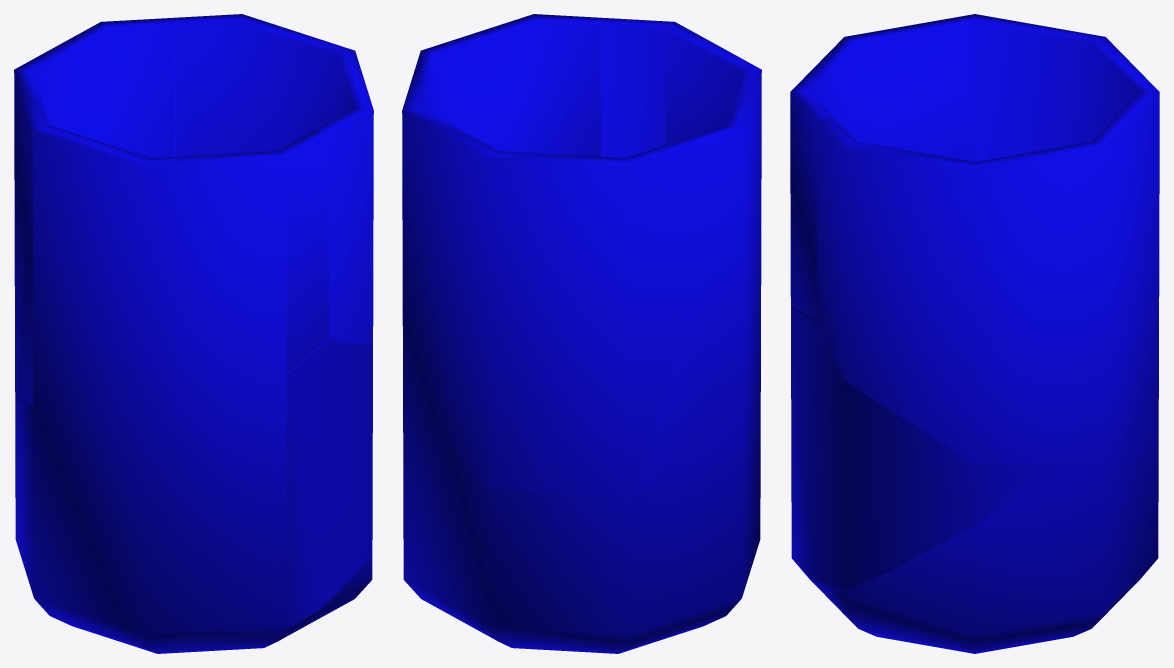
File: Lab_Beaker.fbx
The picture shows the model from 3 angles, left to right: view 1: azimuth 30°, elevation 25°; view 2: azimuth 150°, elevation 25°; view 3: azimuth 270°, elevation 25°; orthographic projection.
Parts seen in each view (by area): view 1: Plane.663, Plane.663_cell, Plane.663_cell.002, Plane.663_cell.001, Plane.663_cell.003, Plane.663_cell.004; view 2: Plane.663, Plane.663_cell.001, Plane.663_cell.002, Plane.663_cell.004, Plane.663_cell.003; view 3: Plane.663, Plane.663_cell.004, Plane.663_cell, Plane.663_cell.003.
Part boxes in pixels (<box>): Plane.663: <box>14,14,373,634</box>; Plane.663_cell: <box>282,339,372,633</box>; Plane.663_cell.002: <box>175,22,354,156</box>; Plane.663_cell.001: <box>14,25,172,404</box>; Plane.663_cell.003: <box>34,125,329,373</box>; Plane.663_cell.004: <box>35,561,372,653</box>; Plane.663: <box>402,14,761,634</box>; Plane.663_cell.001: <box>489,129,742,498</box>; Plane.663_cell.002: <box>421,22,600,156</box>; Plane.663_cell.004: <box>403,428,740,653</box>; Plane.663_cell.003: <box>603,18,761,144</box>; Plane.663: <box>791,14,1159,593</box>; Plane.663_cell.004: <box>802,422,1158,653</box>; Plane.663_cell: <box>791,308,1040,590</box>; Plane.663_cell.003: <box>790,14,973,320</box>.
Bounding box in the file's own units: 0.2873 × 0.4315 × 0.2873.
